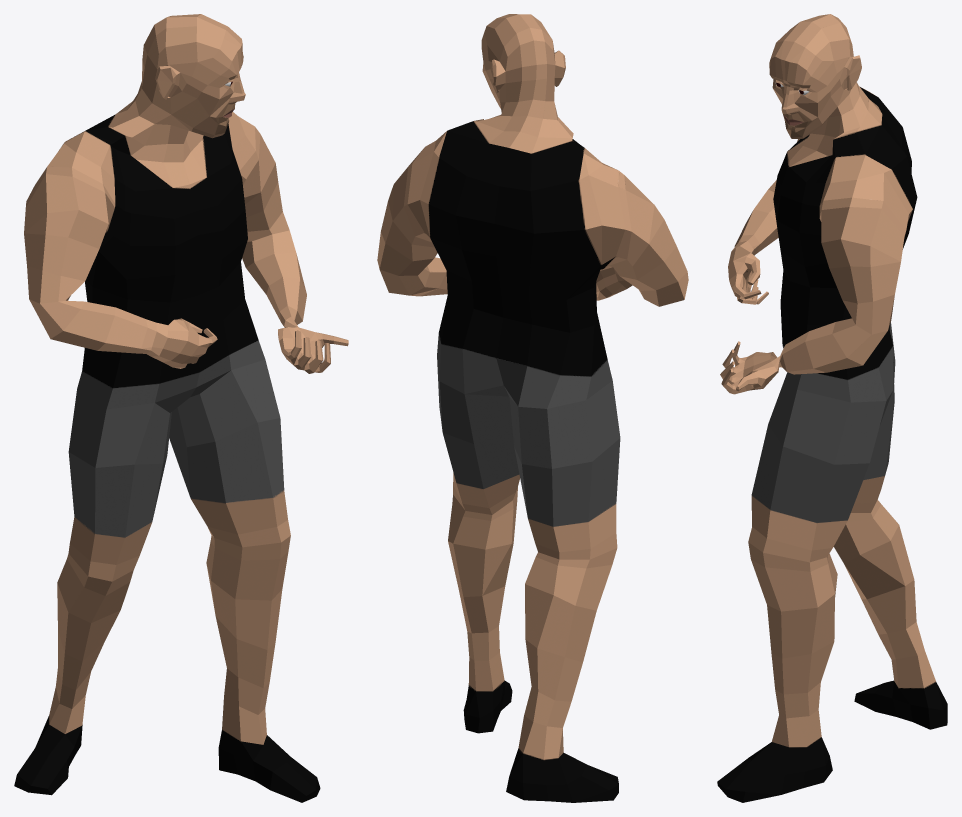
The model's file is PlayerIdle(149).obj.
The picture shows the model from 3 angles, left to right: view 1: azimuth 30°, elevation 25°; view 2: azimuth 150°, elevation 25°; view 3: azimuth 270°, elevation 25°; orthographic projection. The views are drawn at different scales.
Parts seen in each view (by area): view 1: Plane002; view 2: Plane002; view 3: Plane002.
Part boxes in pixels (x1,y1,x2,y2): Plane002: (14,14,348,802); Plane002: (377,14,688,802); Plane002: (717,14,947,802).
Bounding box in the file's own units: 703 × 1790 × 505.
